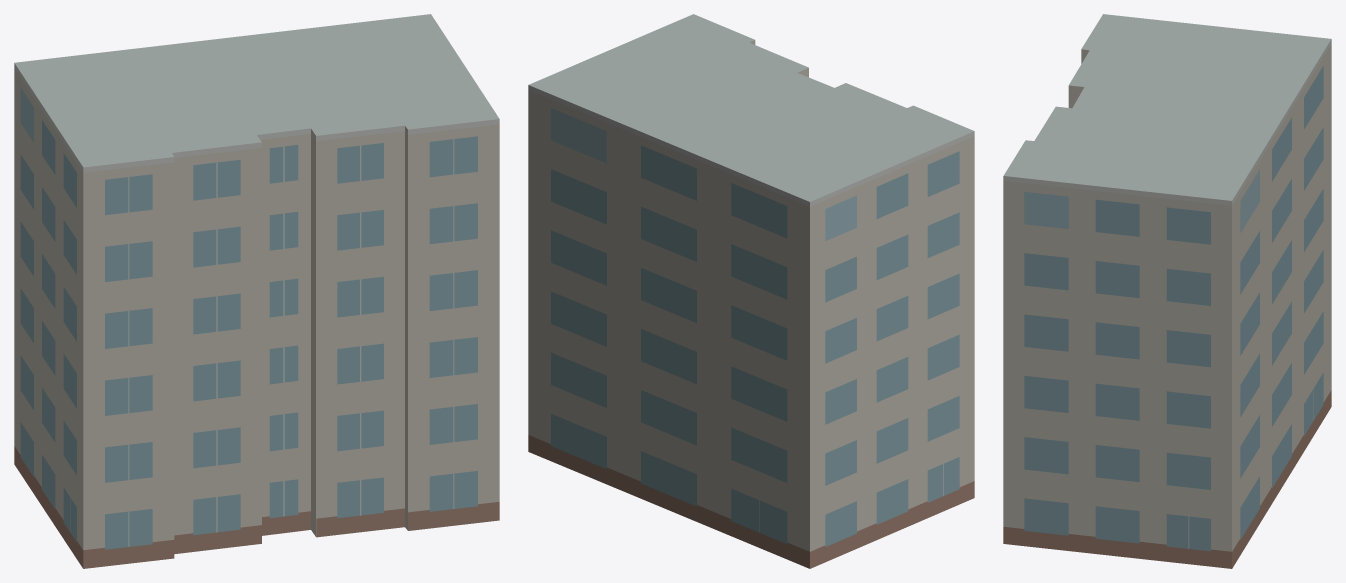
File: survey-upis-32545953.glb
The picture shows the model from 3 angles, left to right: view 1: azimuth 30°, elevation 25°; view 2: azimuth 150°, elevation 25°; view 3: azimuth 270°, elevation 25°; orthographic projection. The views are drawn at different scales.
Parts seen in each view (by area): view 1: survey-upis-32545953.tmp; view 2: survey-upis-32545953.tmp; view 3: survey-upis-32545953.tmp.
Boxes of the visible parts, x1,y1,x2,y2 form: survey-upis-32545953.tmp: (14, 14, 499, 568); survey-upis-32545953.tmp: (528, 14, 974, 568); survey-upis-32545953.tmp: (1003, 14, 1331, 568).
Bounding box in the file's own units: 19.95 × 18.3 × 14.8.
